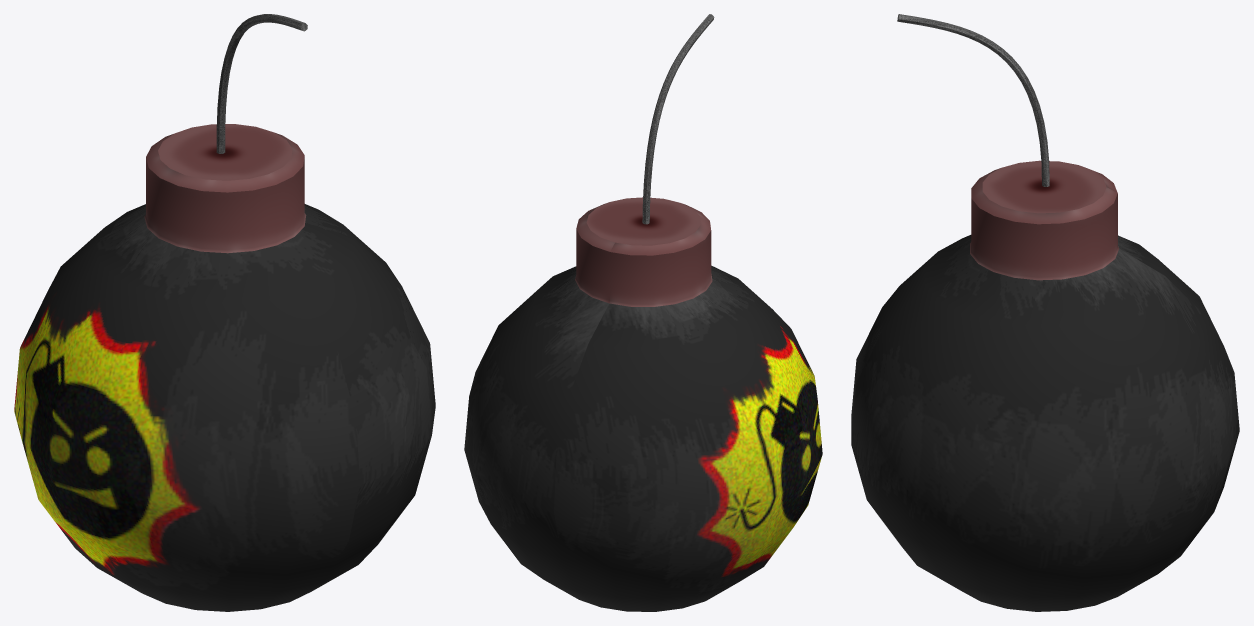
The model's file is Bomb_model.FBX.
3 views of the same model, side by side, from view 1: azimuth 30°, elevation 25°; view 2: azimuth 150°, elevation 25°; view 3: azimuth 270°, elevation 25° (orthographic). The views are drawn at different scales.
Visible parts, largest first — view 1: Sphere001; view 2: Sphere001; view 3: Sphere001.
Part boxes in pixels (bbox=[...]): Sphere001: bbox=[14, 14, 435, 611]; Sphere001: bbox=[464, 14, 822, 611]; Sphere001: bbox=[851, 14, 1239, 611].
Size of the model in its own units: 47.69 by 78.17 by 47.53.
